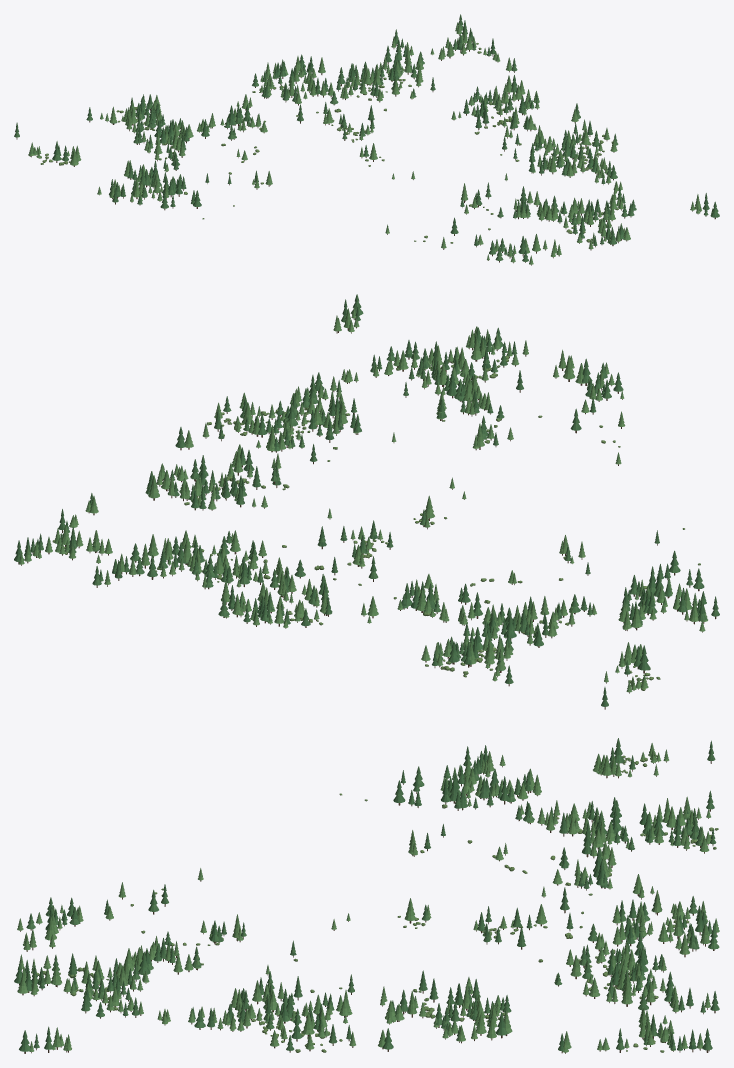
The model's file is Foliage_P1.fbx.
3 renders of one model, top to bottom at view 1: azimuth 30°, elevation 25°; view 2: azimuth 150°, elevation 25°; view 3: azimuth 270°, elevation 25°, orthographic. The views are drawn at different scales.
Bounding box in the file's own units: 61620 × 5523 × 61480.
